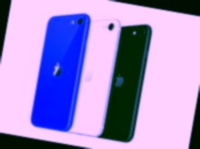iphone: (119, 17, 162, 138)
